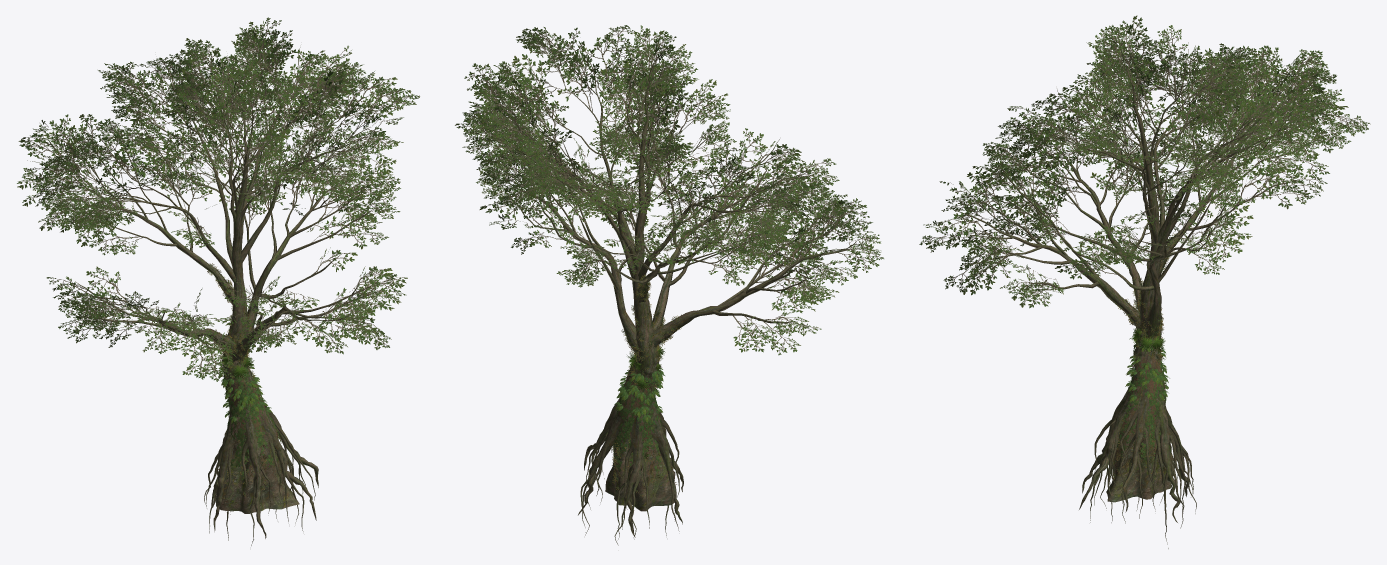
The model's file is Tree - Alien Tree 04 3-D1ShkNPk.glb.
3 renders of one model, left to right at view 1: azimuth 30°, elevation 25°; view 2: azimuth 150°, elevation 25°; view 3: azimuth 270°, elevation 25°, orthographic. The views are drawn at different scales.
Parts seen in each view (by area): view 1: Tree_04_3_L0(Clone), Tree_04_3_plants_L0(Clone); view 2: Tree_04_3_L0(Clone), Tree_04_3_plants_L0(Clone); view 3: Tree_04_3_L0(Clone), Tree_04_3_plants_L0(Clone).
Part boxes in pixels (x1,y1,x2,y2): Tree_04_3_L0(Clone): (17,17,419,545); Tree_04_3_plants_L0(Clone): (207,263,281,498); Tree_04_3_L0(Clone): (455,25,883,545); Tree_04_3_plants_L0(Clone): (609,274,681,496); Tree_04_3_L0(Clone): (919,15,1370,548); Tree_04_3_plants_L0(Clone): (1113,233,1180,481).
Bounding box in the file's own units: 16.75 × 22.23 × 18.25.
Materials: 3 (3 with a texture image).
